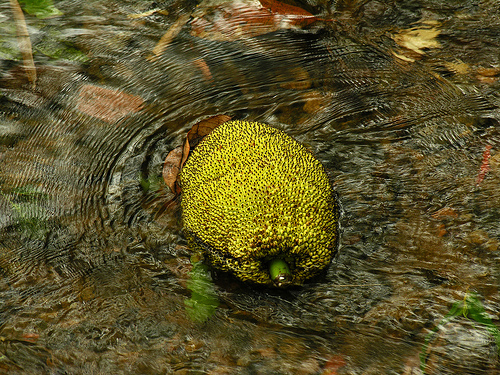jackfruit: (176, 118, 340, 290)
